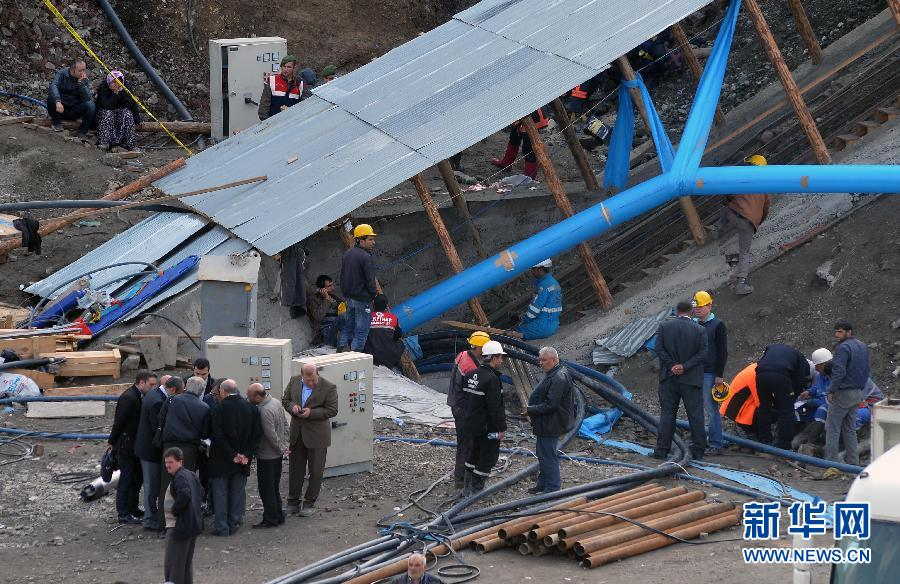helmet: (345, 216, 384, 254), (478, 341, 507, 368), (692, 290, 720, 317), (465, 330, 488, 356)
